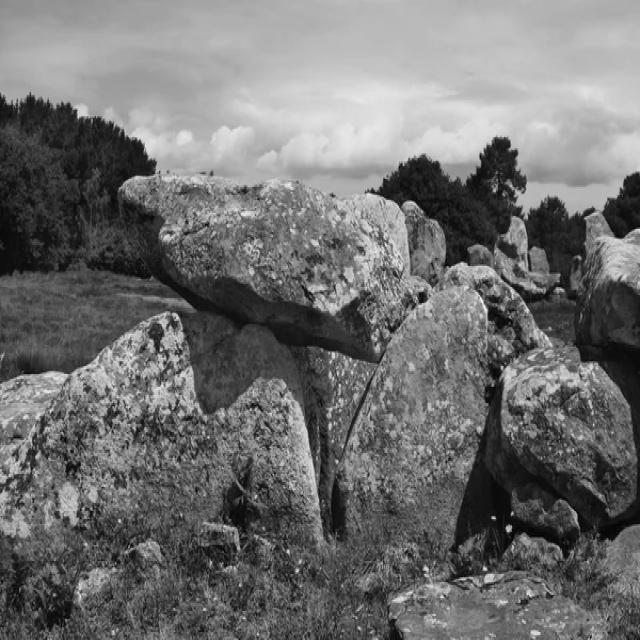Stone: (0, 313, 323, 542), (118, 174, 422, 362), (333, 287, 488, 544), (490, 346, 640, 522), (291, 347, 378, 531), (389, 572, 604, 640), (442, 263, 553, 394), (576, 214, 640, 350), (495, 218, 562, 300), (402, 201, 447, 283)
